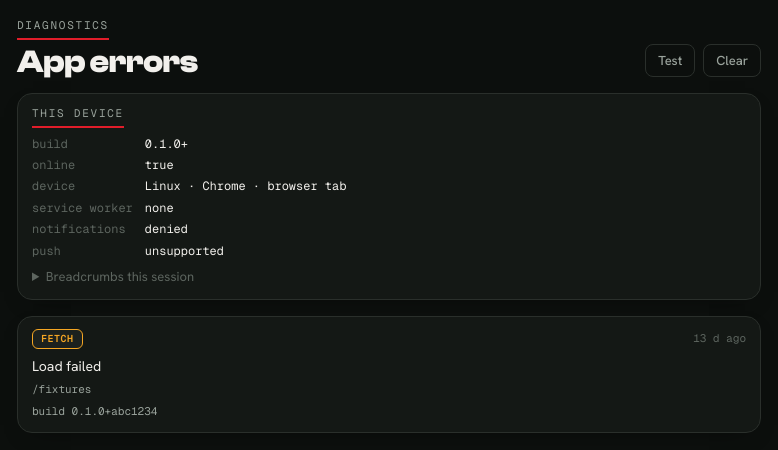
Test: Diagnostics › Clear surfaces a refused delete instead of silently reloading
Check: the text "Load failed" is shown, box [32,357,101,375]
Click the button "Clear".
click(732, 60)  # box [703,44,761,77]
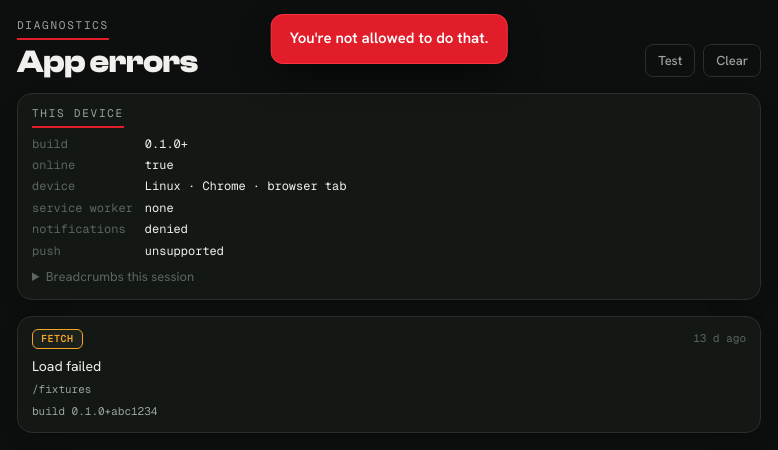
Check: the message shows "not allowed", box [290,28,488,48]
